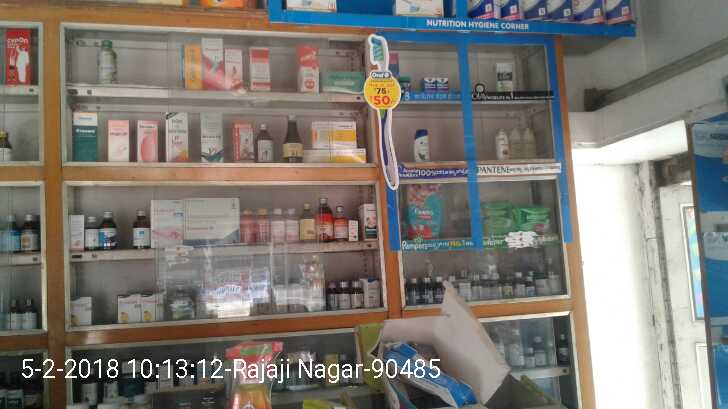beauty: (410, 126, 432, 159), (494, 62, 516, 92), (495, 126, 508, 163)
pharmacy: (405, 183, 442, 245), (518, 201, 552, 235), (481, 200, 512, 237), (421, 73, 436, 92), (437, 75, 450, 91)
